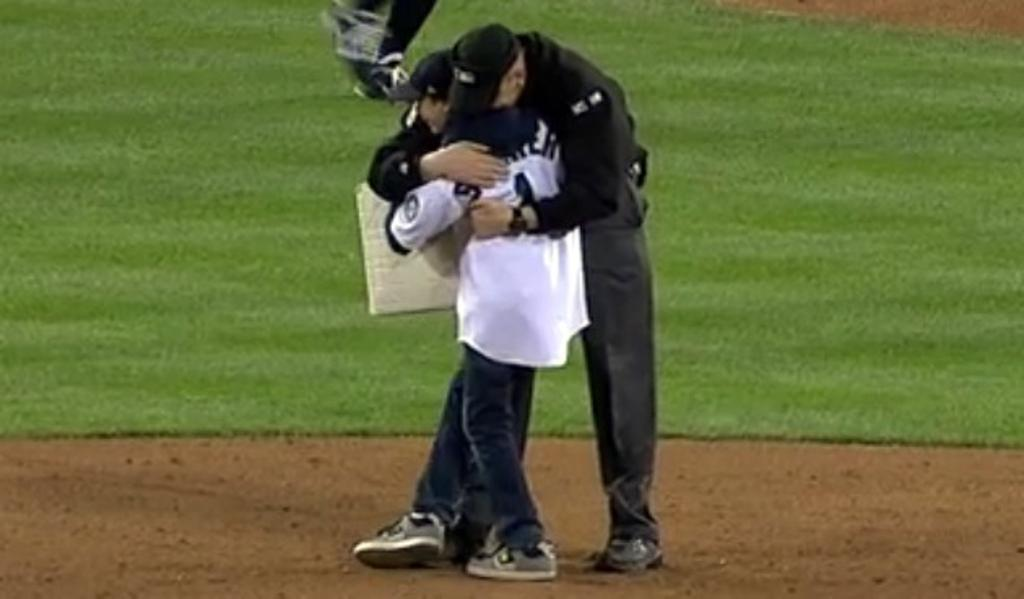face: (481, 72, 523, 108), (418, 91, 446, 134)
